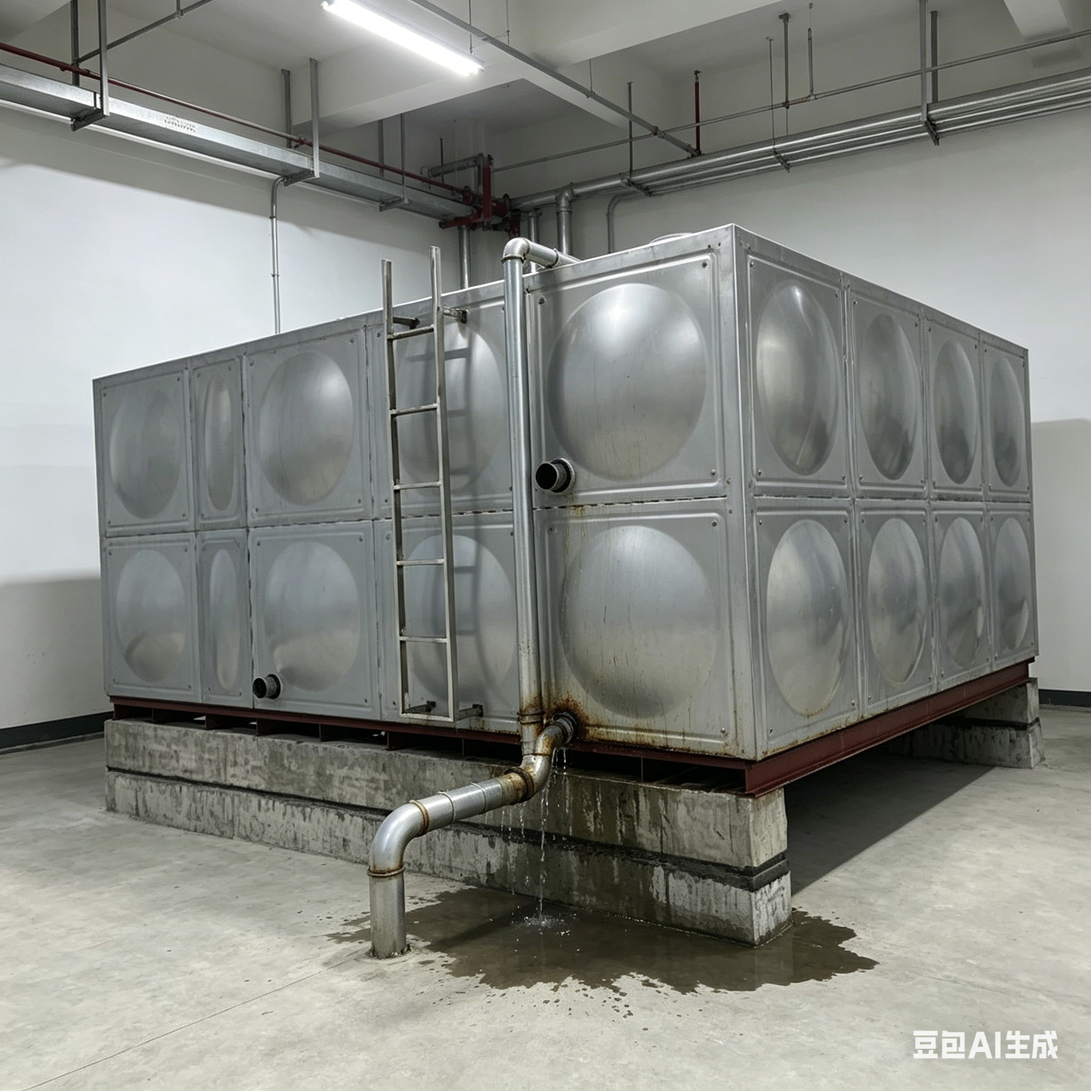Leakage: (505, 716, 610, 999), (624, 892, 886, 1003), (403, 856, 495, 983)
